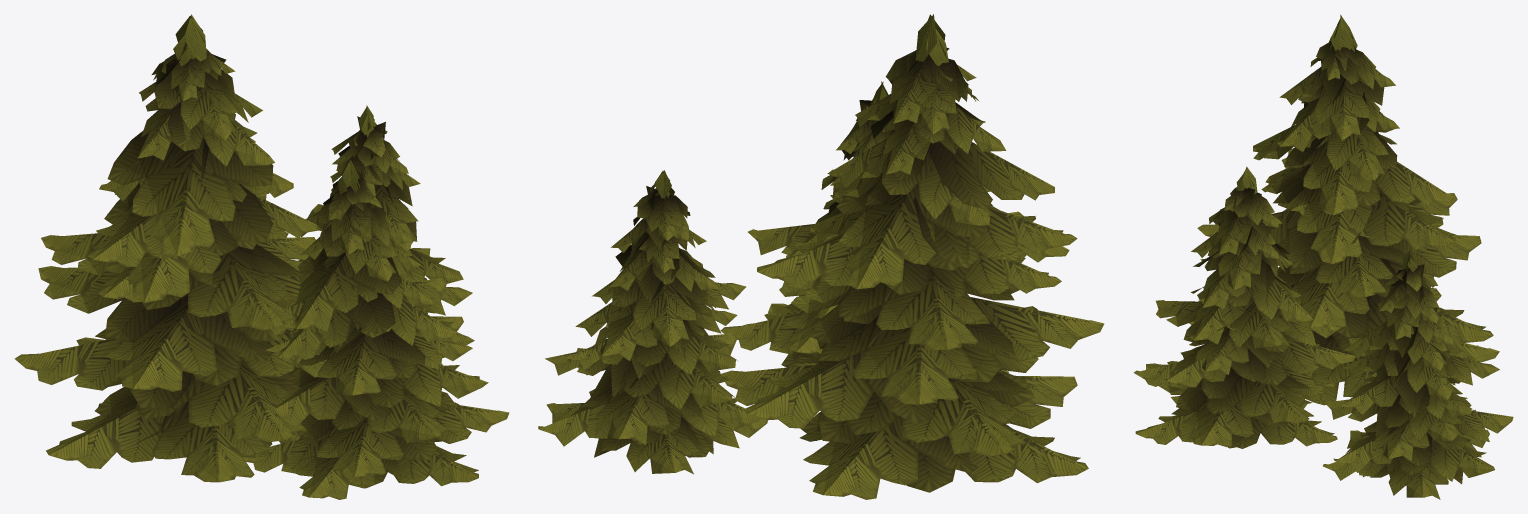
Rendered from pine_tree_triple_no_tank_MIDLE_ver2.glb.
3 views of the same model, side by side, from view 1: azimuth 30°, elevation 25°; view 2: azimuth 150°, elevation 25°; view 3: azimuth 270°, elevation 25° (orthographic). The views are drawn at different scales.
Parts seen in each view (by area): view 1: Leaves_LOW; view 2: Leaves_LOW; view 3: Leaves_LOW.
Boxes of the visible parts, x1=… form: Leaves_LOW: x1=14, y1=14, x2=509, y2=499; Leaves_LOW: x1=538, y1=14, x2=1104, y2=499; Leaves_LOW: x1=1134, y1=14, x2=1513, y2=499.
Size of the model in its own units: 3.11 by 2.79 by 2.6.
Materials: 1 (1 with a texture image).
